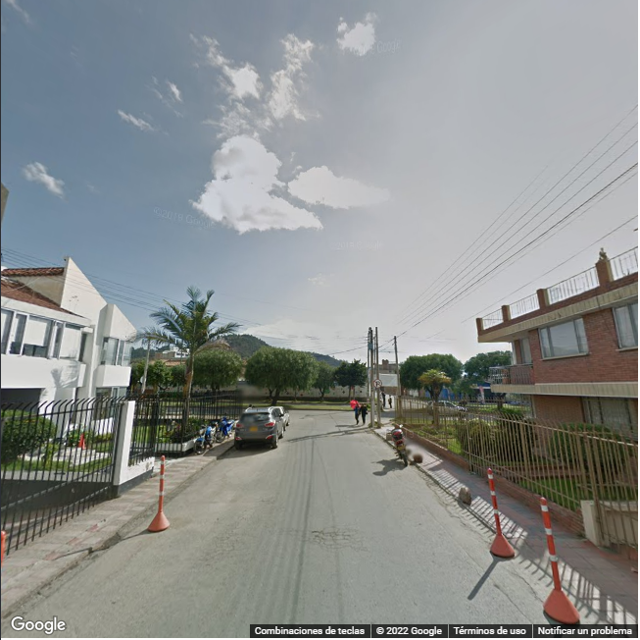D00: (463, 549, 542, 625)
D20: (297, 521, 373, 547)
